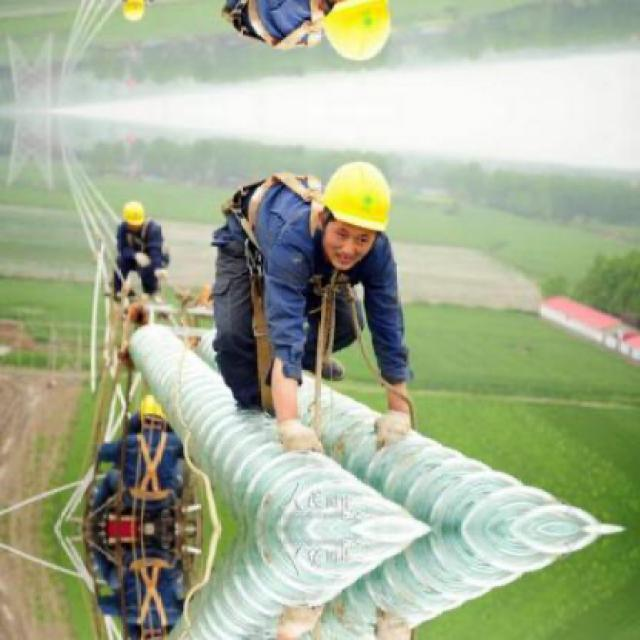helmet: (310, 153, 398, 274), (309, 0, 400, 71), (132, 395, 174, 438), (123, 199, 149, 233), (131, 620, 174, 638), (122, 0, 149, 25)
